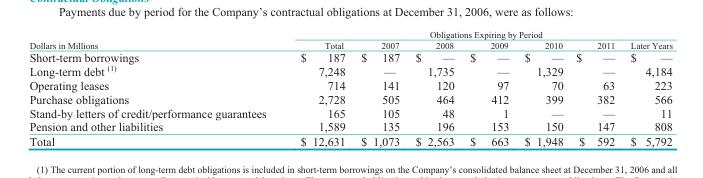table: (28, 28, 672, 147)
table column: (28, 28, 282, 147), (282, 28, 352, 147), (352, 28, 407, 147), (461, 28, 516, 147), (407, 28, 461, 147), (516, 28, 569, 147), (569, 28, 622, 147), (622, 28, 672, 147)
table column header: (28, 28, 672, 50)
table row: (28, 63, 672, 78), (28, 91, 672, 105), (28, 105, 672, 119), (28, 119, 672, 133), (28, 133, 672, 147), (28, 50, 672, 63), (28, 78, 672, 91), (28, 28, 672, 39), (28, 39, 672, 50)
table spanning cell: (28, 28, 282, 50), (407, 28, 569, 39), (282, 28, 352, 50), (352, 28, 407, 50), (569, 28, 622, 50), (622, 28, 672, 50)
